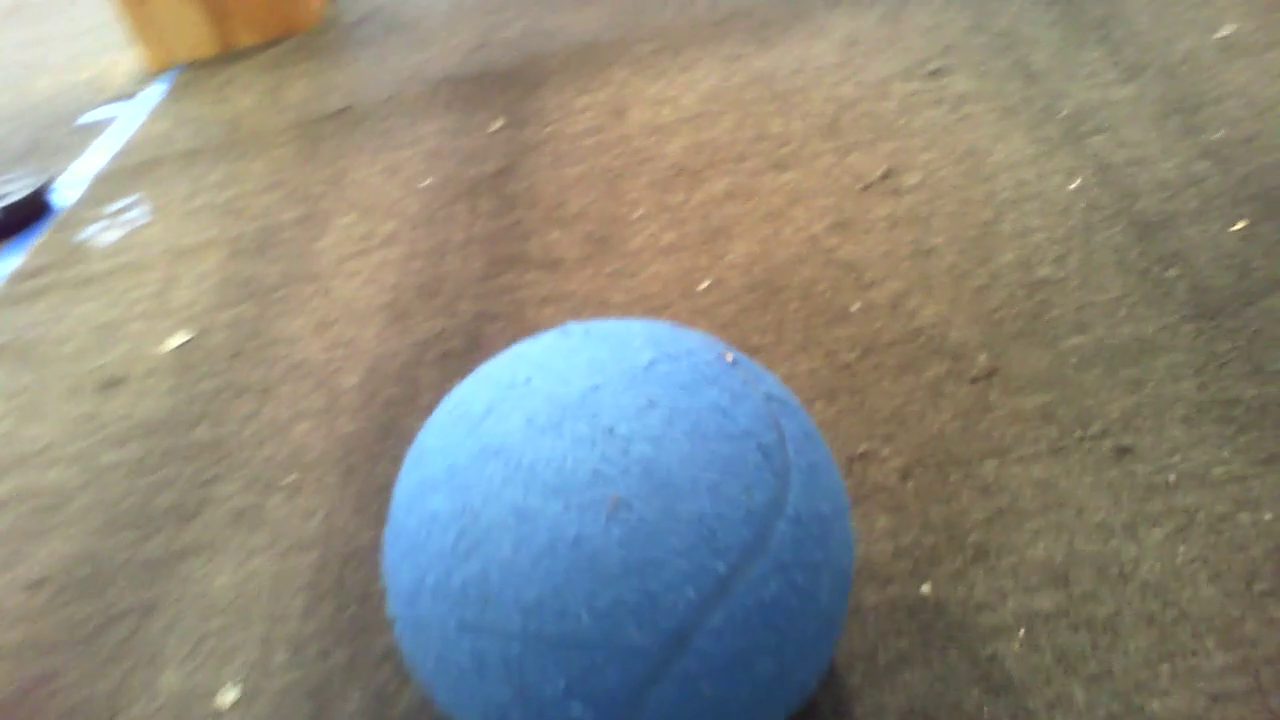blue_cargo: (380, 307, 885, 720)
